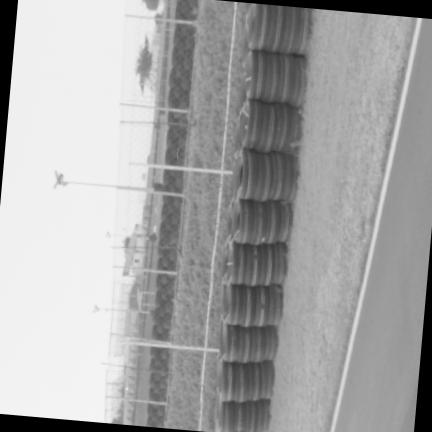Shahed: (176, 146, 180, 159)
